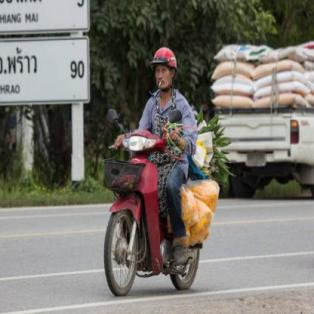Motocicleta: (95, 113, 208, 301)
